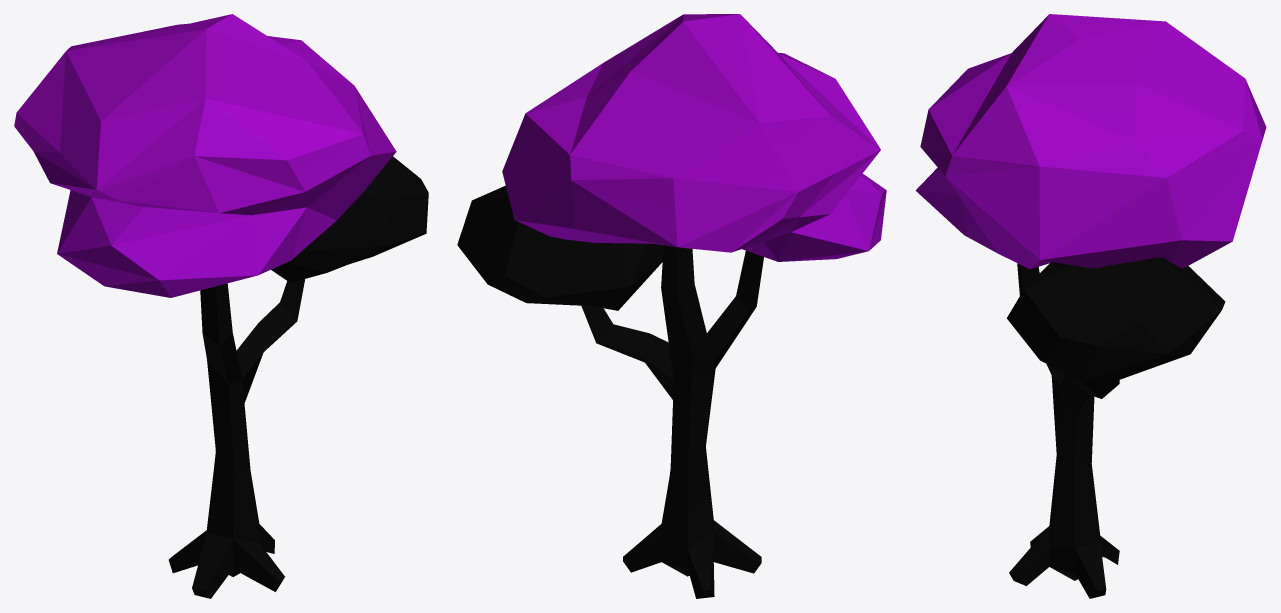
The model's file is SM_Env_Tree_03.glb.
3 views of the same model, side by side, from view 1: azimuth 30°, elevation 25°; view 2: azimuth 150°, elevation 25°; view 3: azimuth 270°, elevation 25° (orthographic). The views are drawn at different scales.
Parts seen in each view (by area): view 1: SM_Env_Tree_03; view 2: SM_Env_Tree_03; view 3: SM_Env_Tree_03.
Boxes of the visible parts, box(x1,y1,x2,y2) form: SM_Env_Tree_03: box(14, 14, 428, 598); SM_Env_Tree_03: box(457, 14, 886, 598); SM_Env_Tree_03: box(915, 14, 1266, 598).
Bounding box in the file's own units: 4.51 × 6.45 × 3.74.
